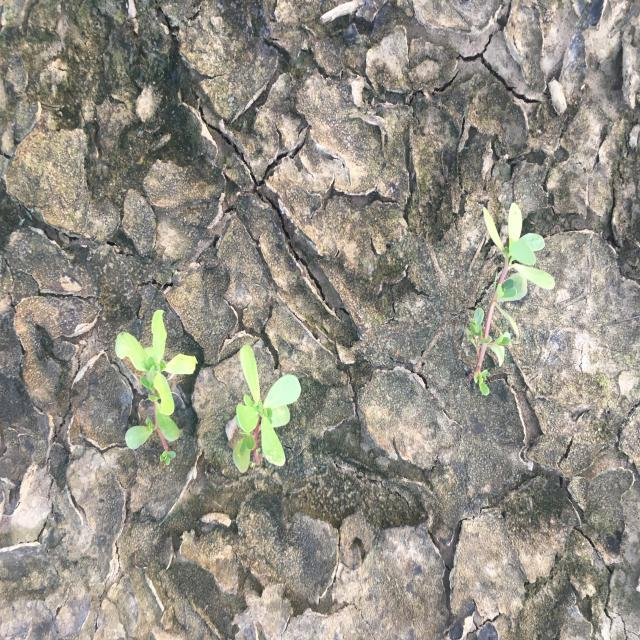Purslane: (464, 200, 556, 396), (114, 306, 198, 468), (231, 343, 302, 476)
